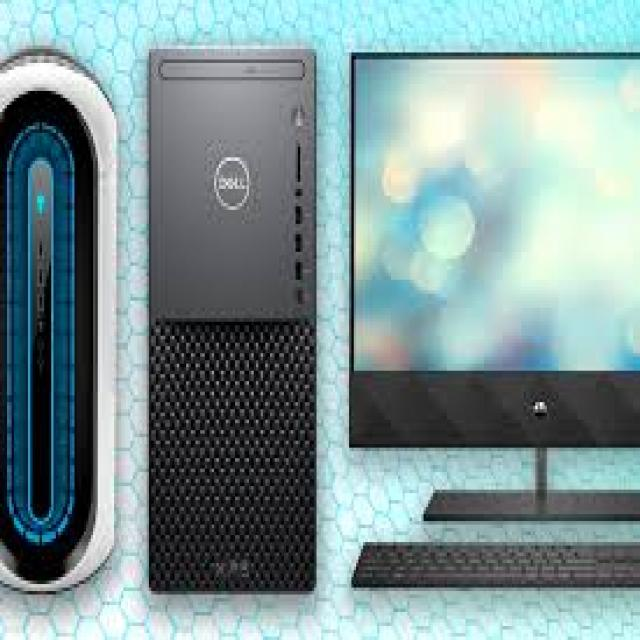Computer: (139, 28, 327, 612)
Monitor: (345, 37, 640, 465)
